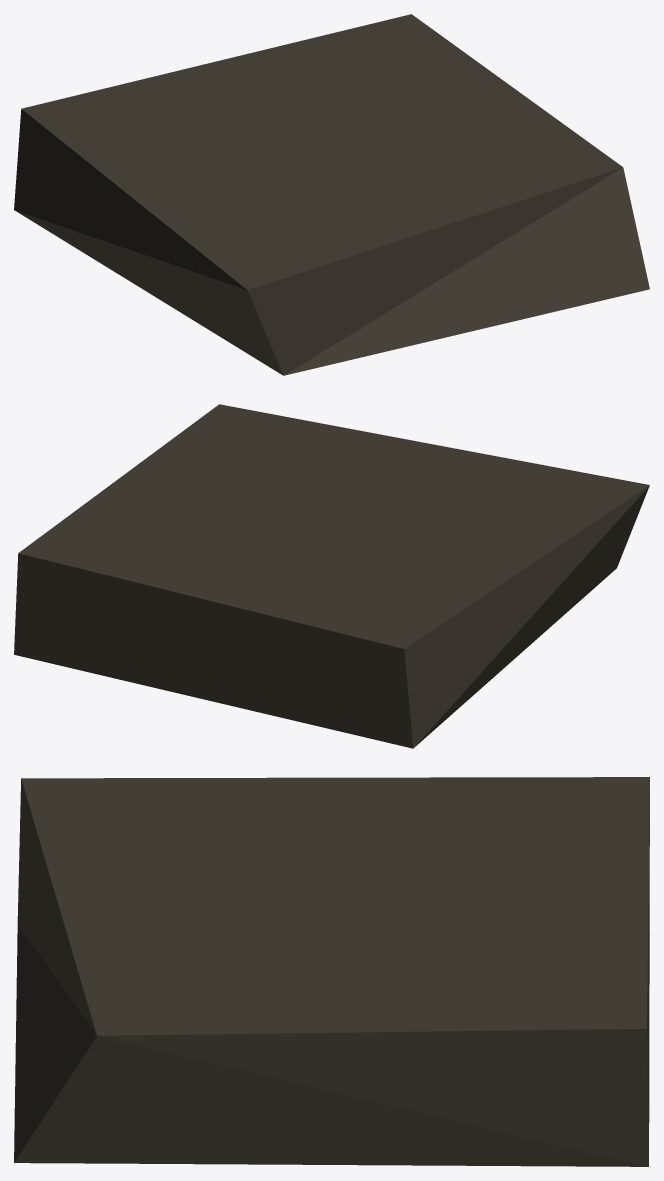
The model's file is Brick_Single_7_LOD.fbx.
3 views of the same model, one above another, from view 1: azimuth 30°, elevation 25°; view 2: azimuth 150°, elevation 25°; view 3: azimuth 270°, elevation 25° (orthographic). The views are drawn at different scales.
Parts seen in each view (by area): view 1: Group38931; view 2: Group38931; view 3: Group38931.
Boxes of the visible parts, x1=… form: Group38931: x1=14, y1=14, x2=649, y2=375; Group38931: x1=14, y1=404, x2=649, y2=748; Group38931: x1=14, y1=777, x2=649, y2=1166.
Size of the model in its own units: 1.72 by 0.4154 by 1.76.
